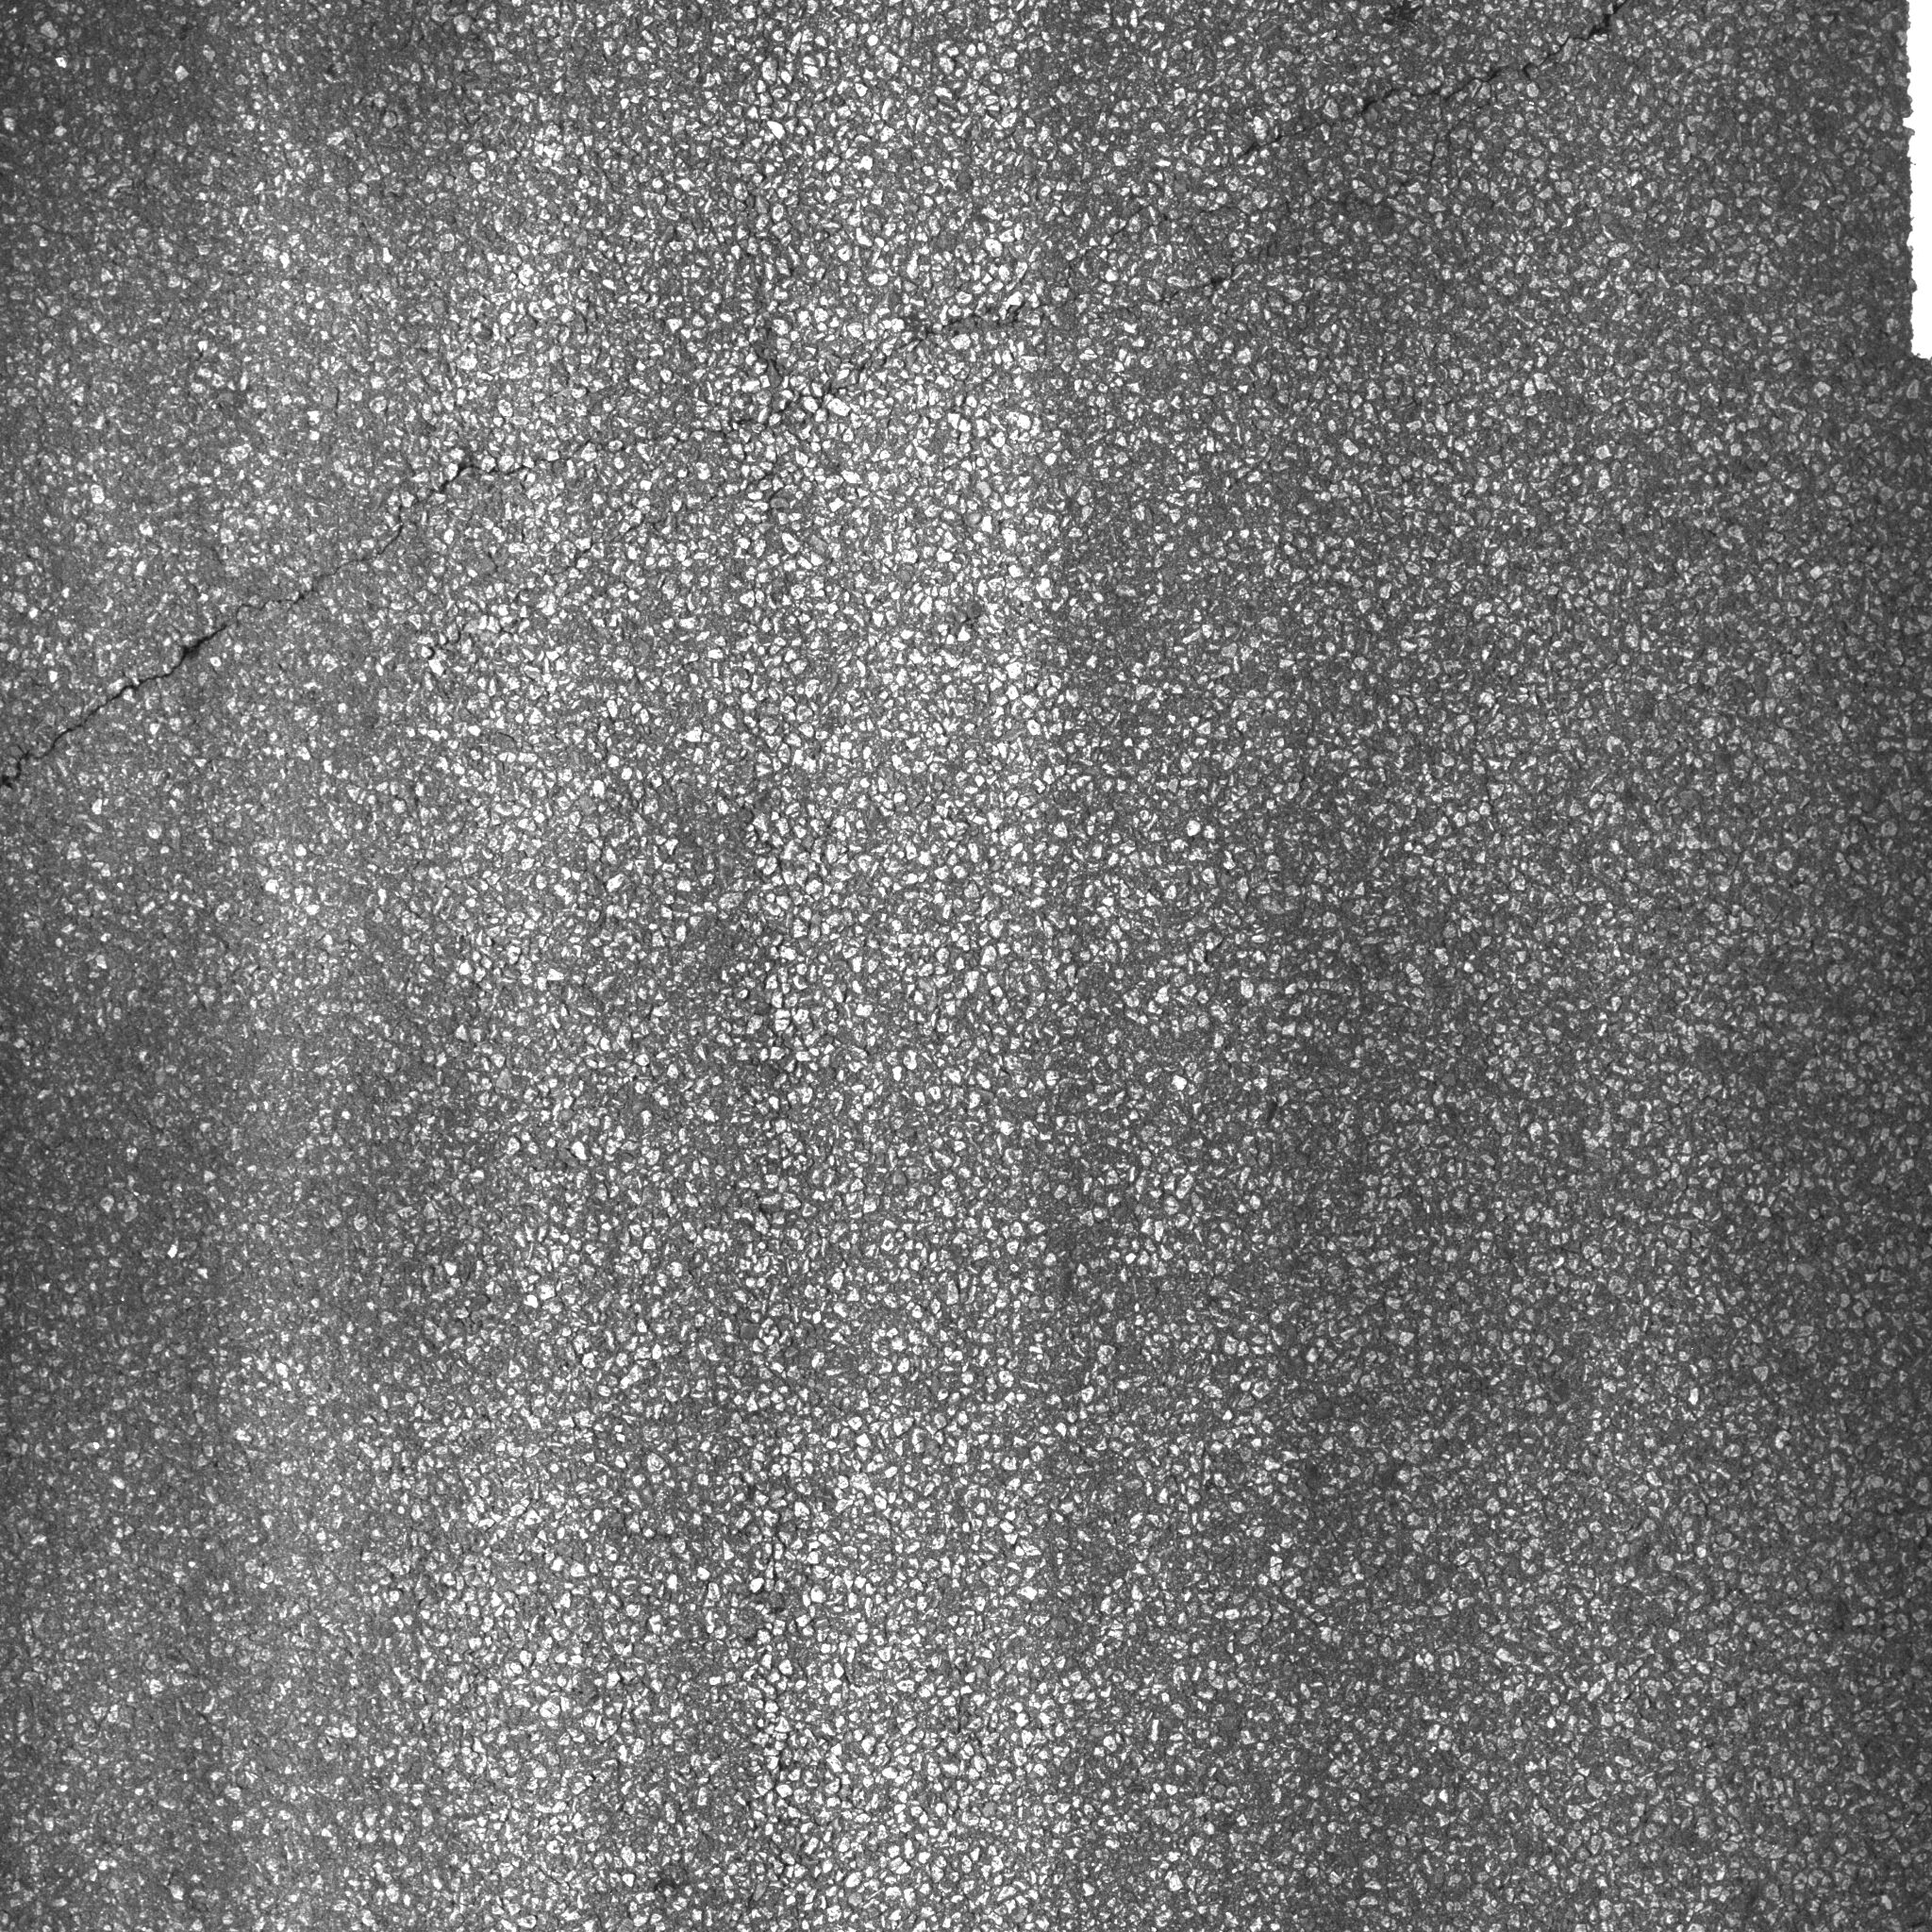transeverse: (4, 234, 1309, 812), (1164, 4, 1660, 180)
